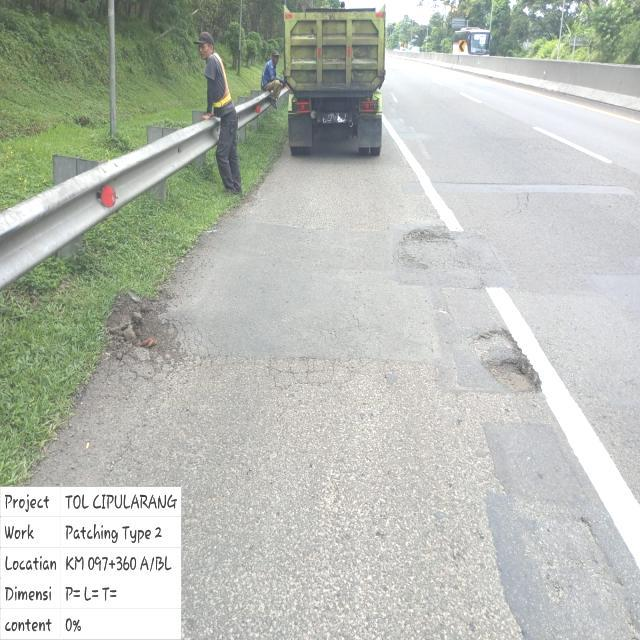Buraco: (466, 326, 545, 398), (397, 225, 457, 248)
